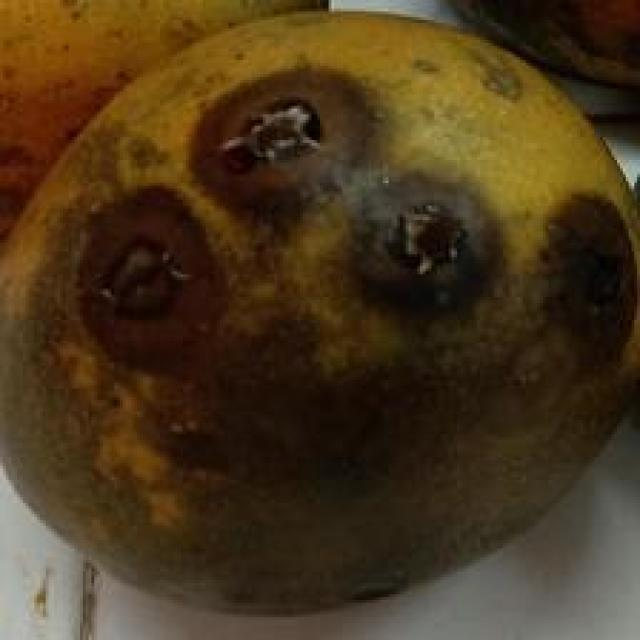Mango: (5, 19, 638, 610), (1, 0, 338, 245)
